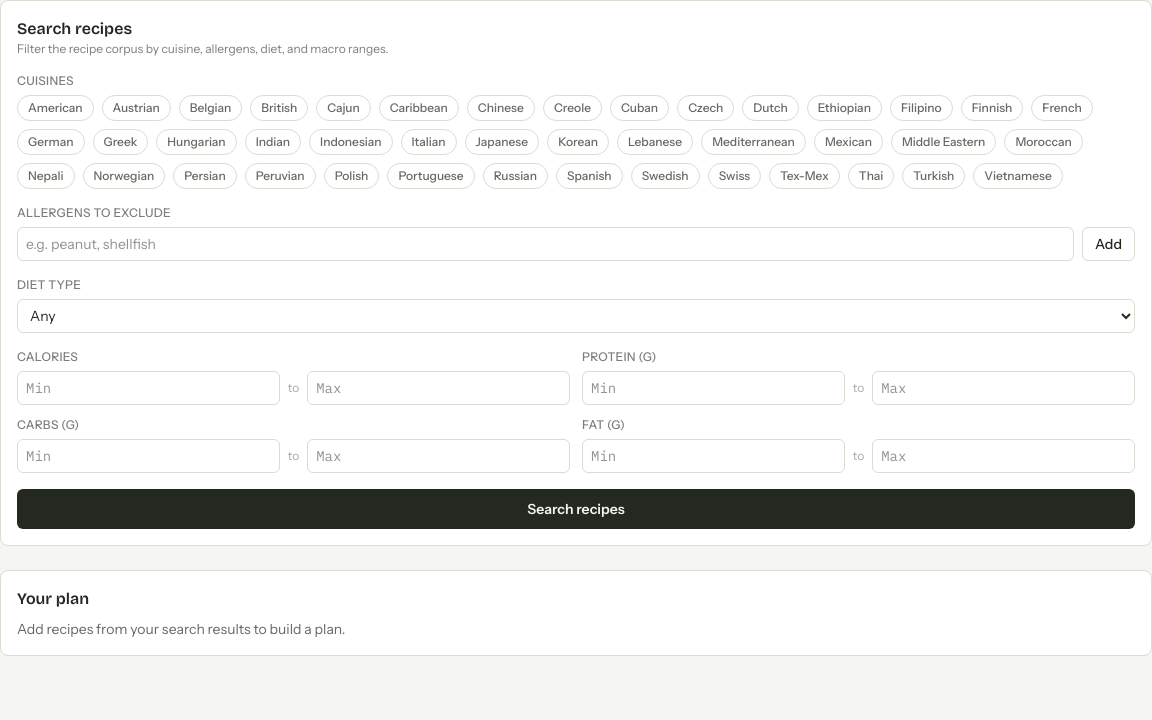
RecipeSearchPage › renders search results after a search
This screenshot has width=1152, height=720.
Click the button "Search recipes" at point(576, 509), box [17, 489, 1135, 529]
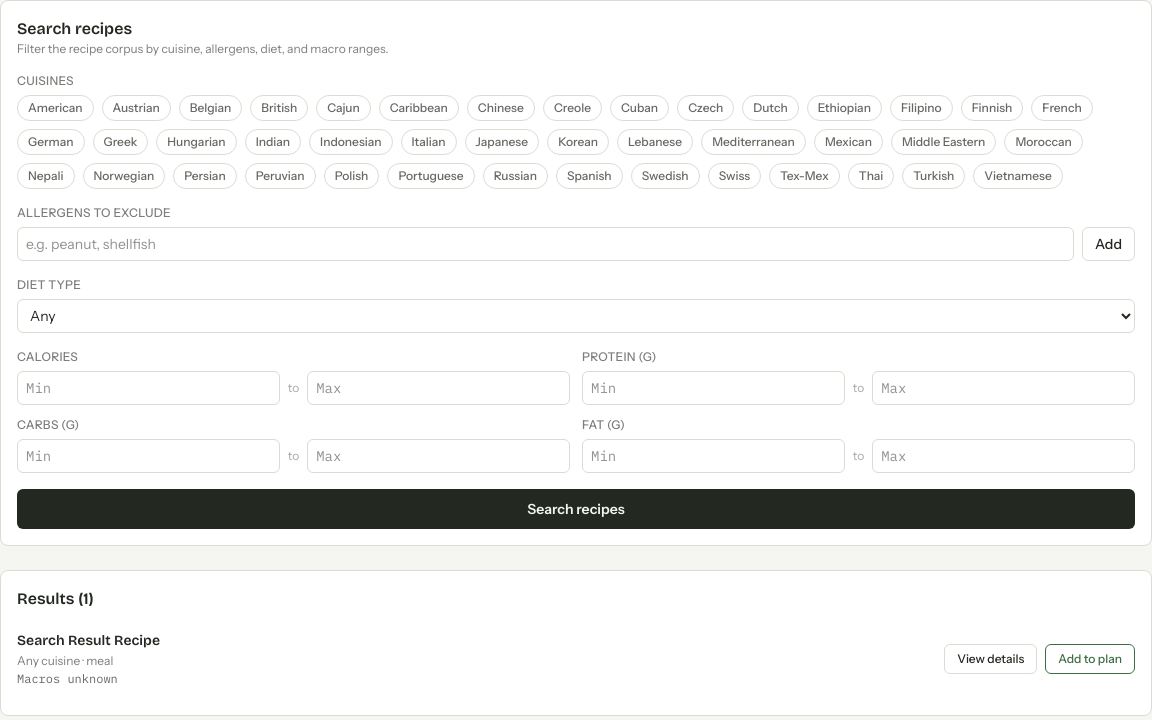
expect the text "Search Result Recipe" is shown: met, box [17, 631, 160, 651]
expect the heading "Results (1)" is shown: met, box [17, 587, 94, 611]
